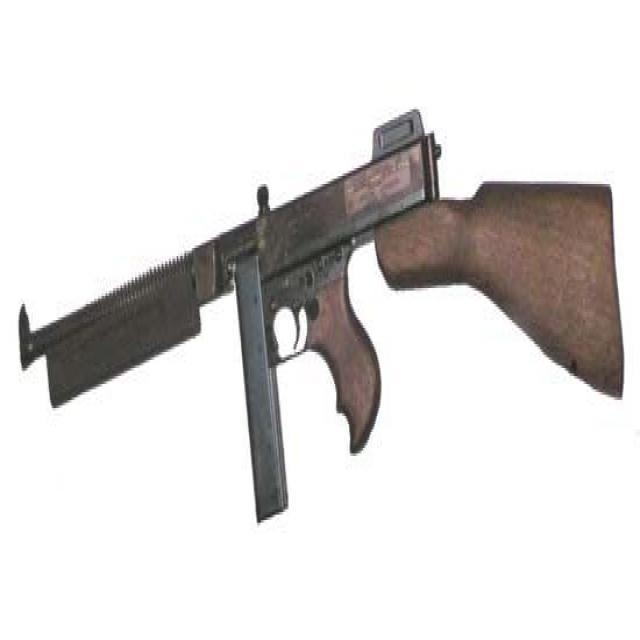rifle: (17, 108, 630, 543)
